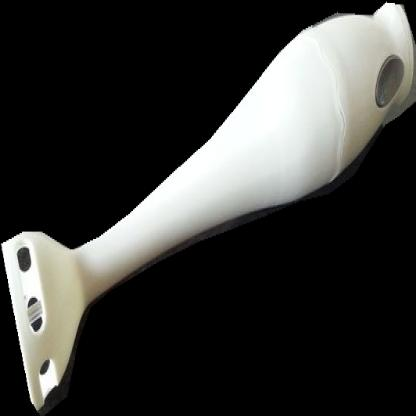Blender: (1, 1, 416, 416)
